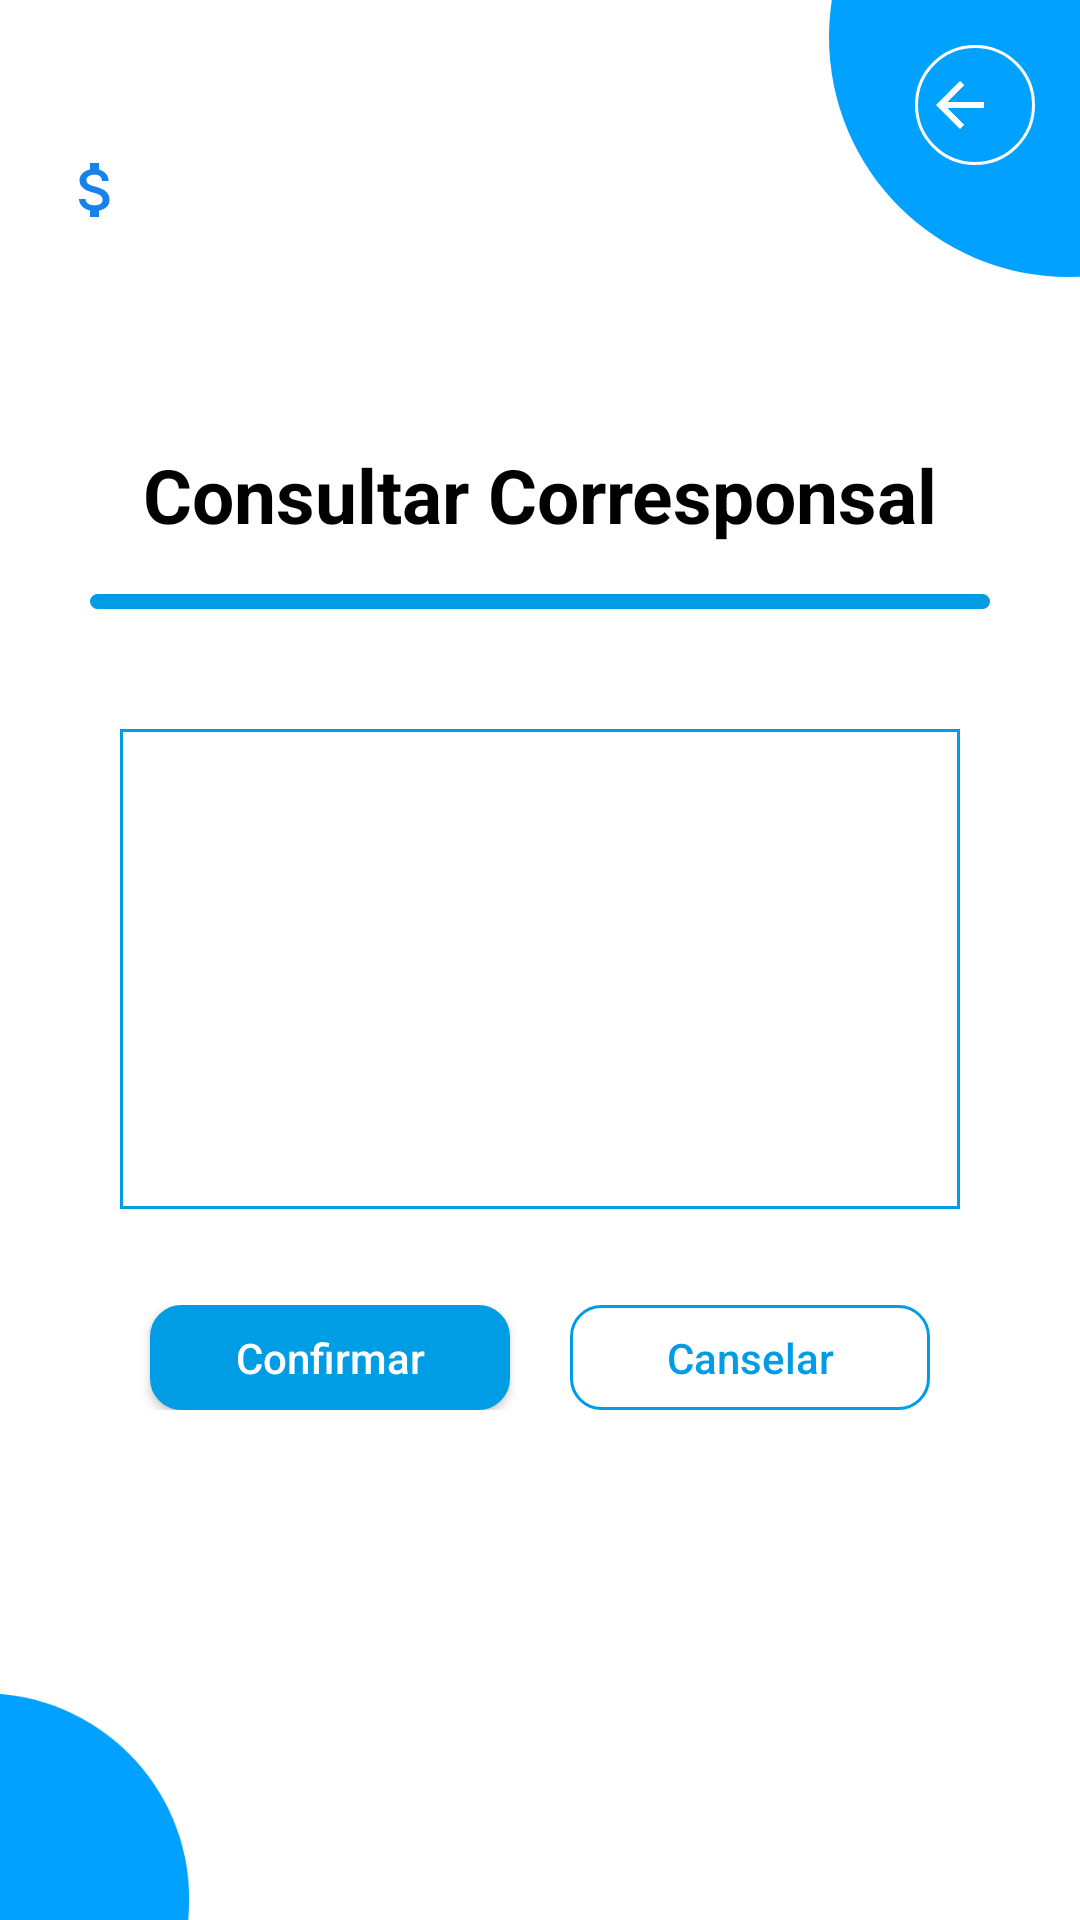

Icon click points for this 1080×1920 phone screenshot, format (x=x, y=y):
back: (x=975, y=105)
